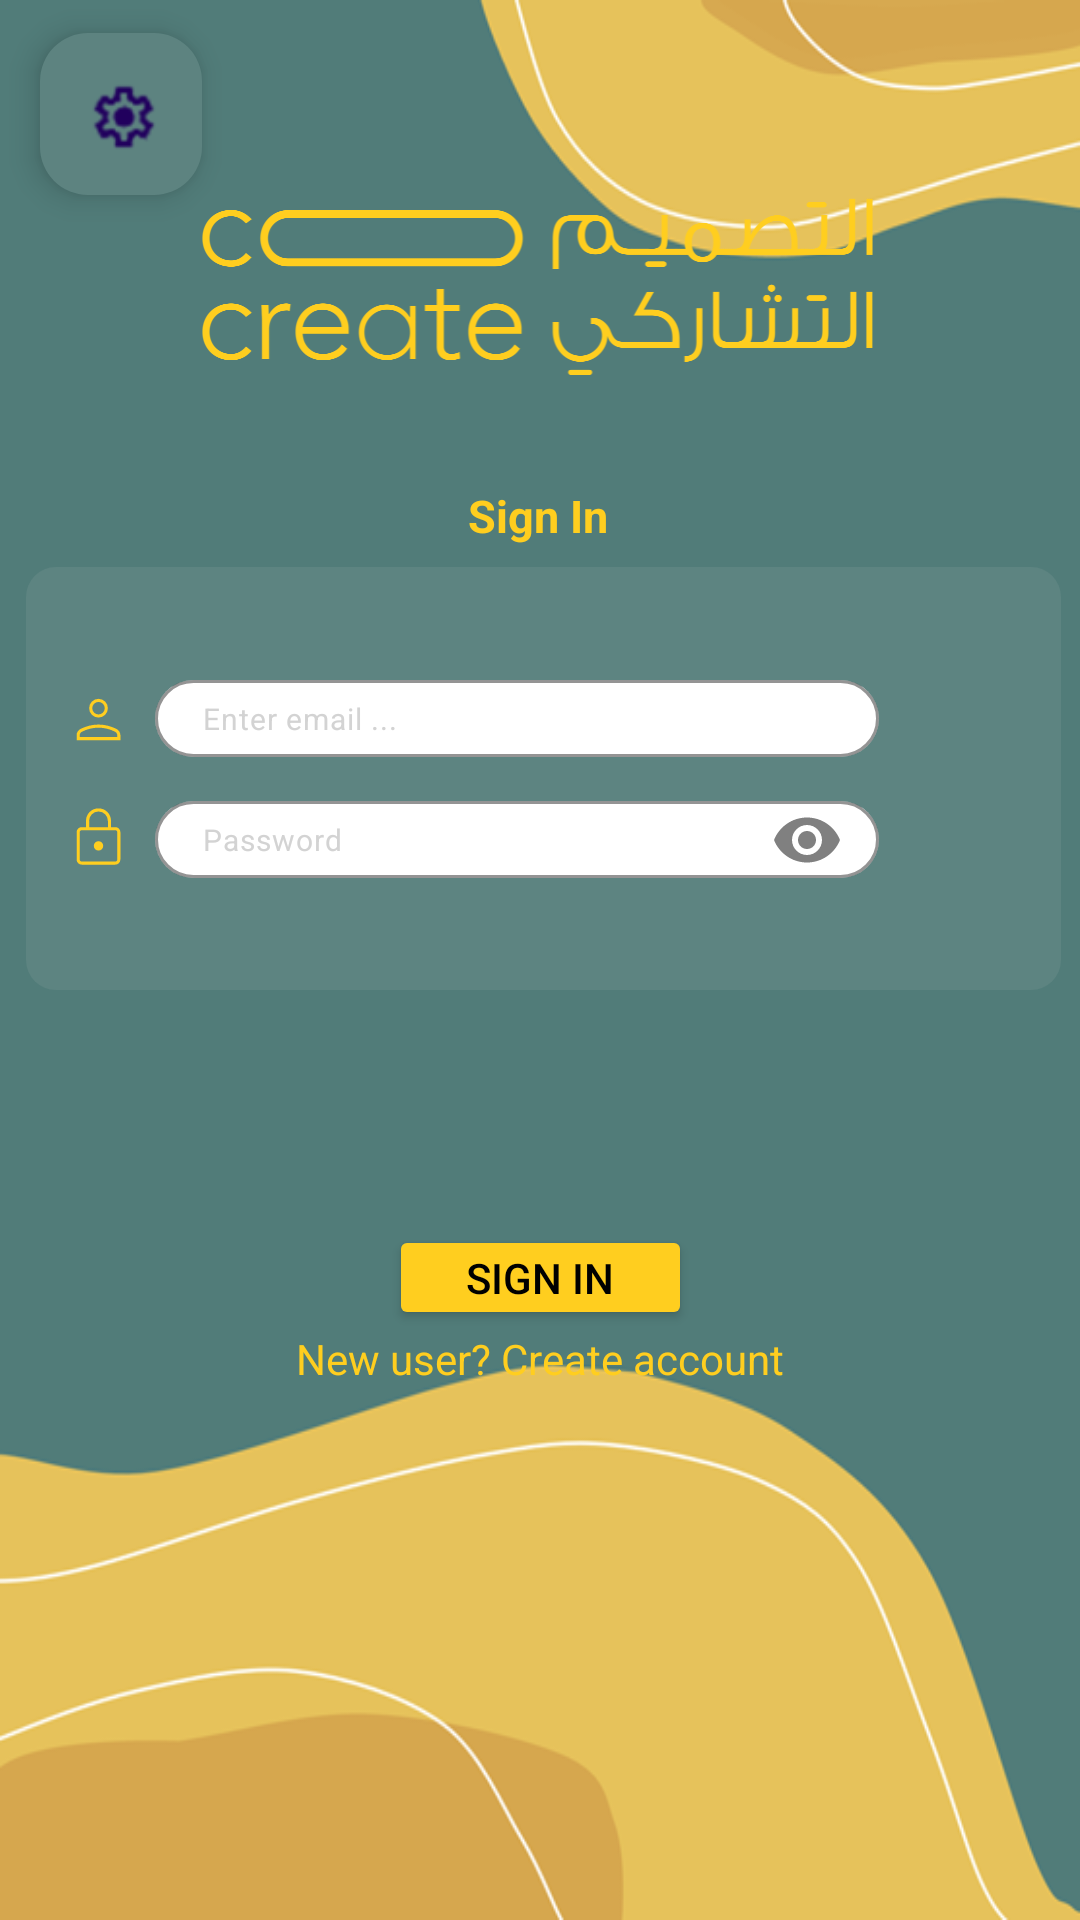

Named icons in this screenshot (1080×1920) and their bounding boxes, (x1, y1, x2, y2):
lock: (76, 808, 121, 865)
person: (76, 699, 121, 741)
settings: (94, 86, 154, 148)
